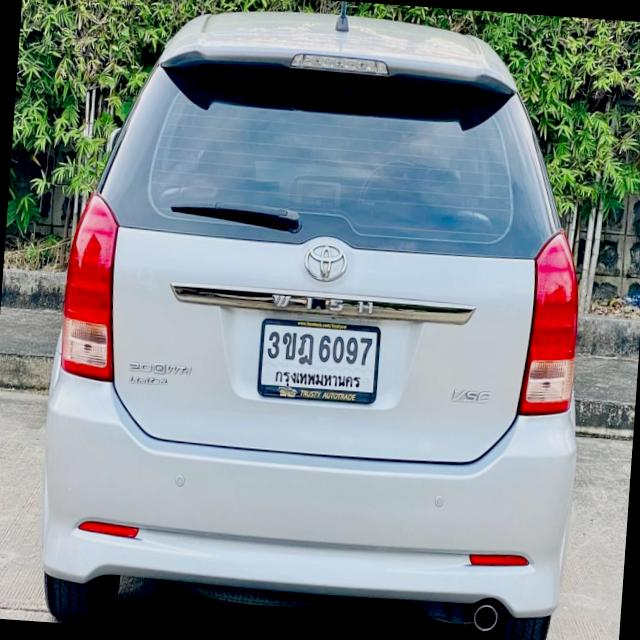license_plate: (252, 314, 386, 409)
